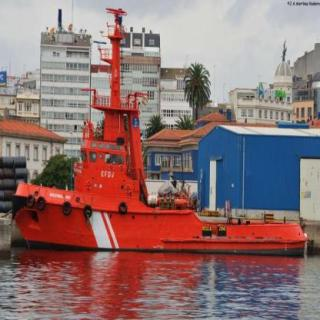Tug Boat: (7, 86, 320, 256)
